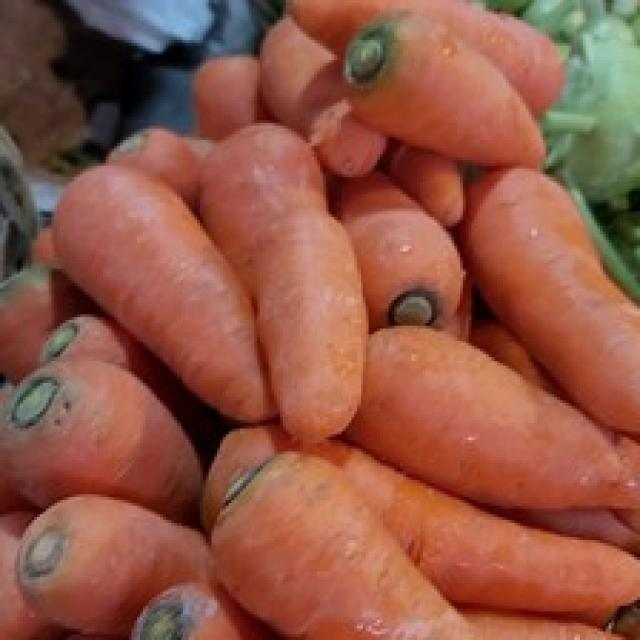Fresh_Carrot: (344, 317, 640, 518), (42, 160, 274, 413), (449, 162, 640, 414), (192, 457, 434, 640)
